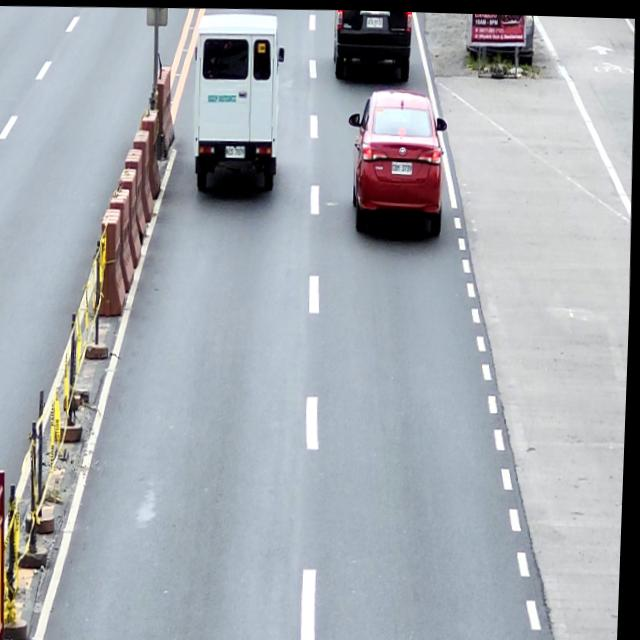Car: (191, 10, 287, 194), (345, 83, 450, 235), (332, 8, 413, 81)
License-Plate: (392, 158, 413, 173), (226, 143, 246, 157), (366, 14, 383, 25)
